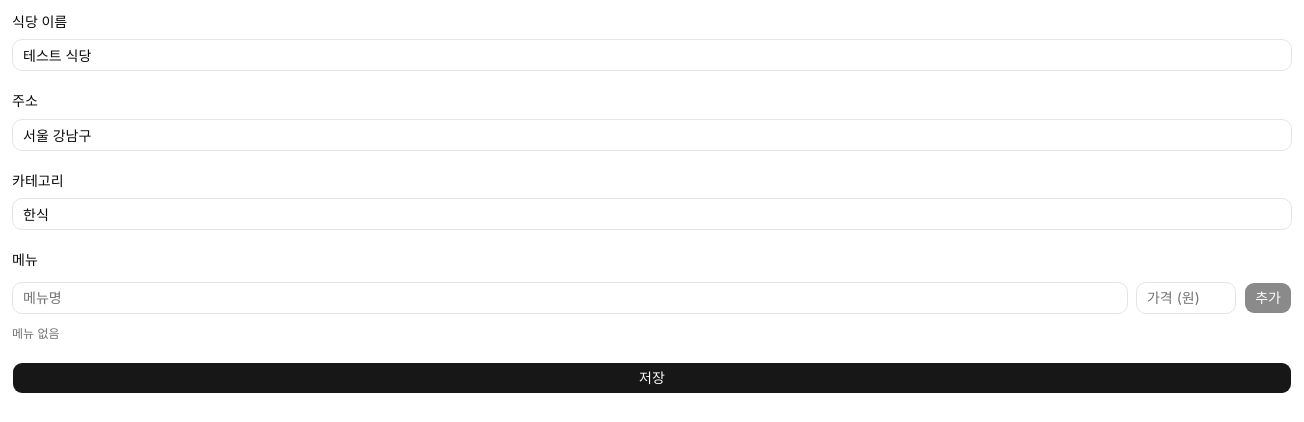
Scenario: RestaurantForm › 메뉴 추가 → 목록에 '된장찌개 8,500원' 표시
Type "된장찌개" into the field with placeholder "메뉴명" at {"x": 570, "y": 298}, box 12,282 -> 1128,314
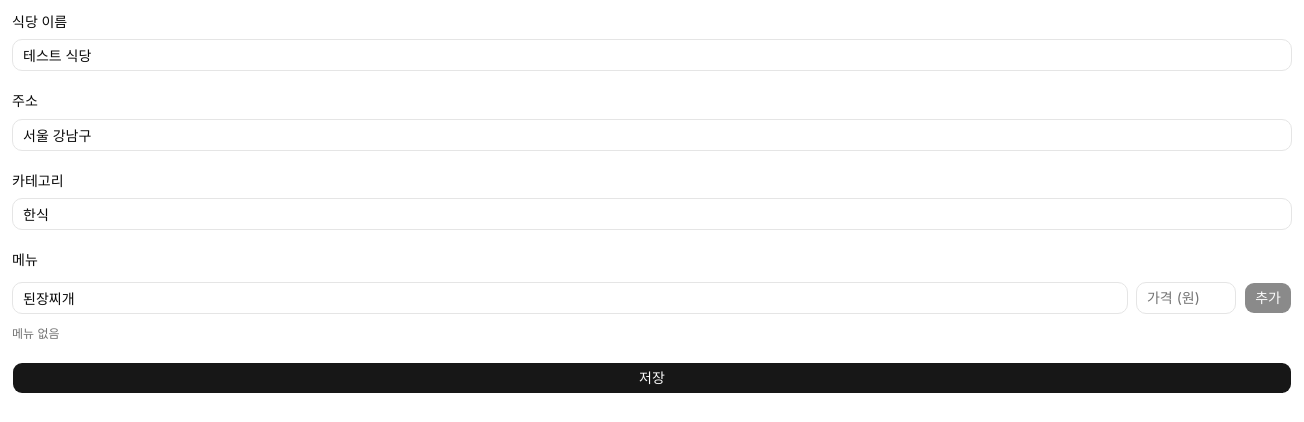
Type "8500" into the number field with placeholder "가격 (원)" at {"x": 1186, "y": 298}, box 1136,282 -> 1236,314
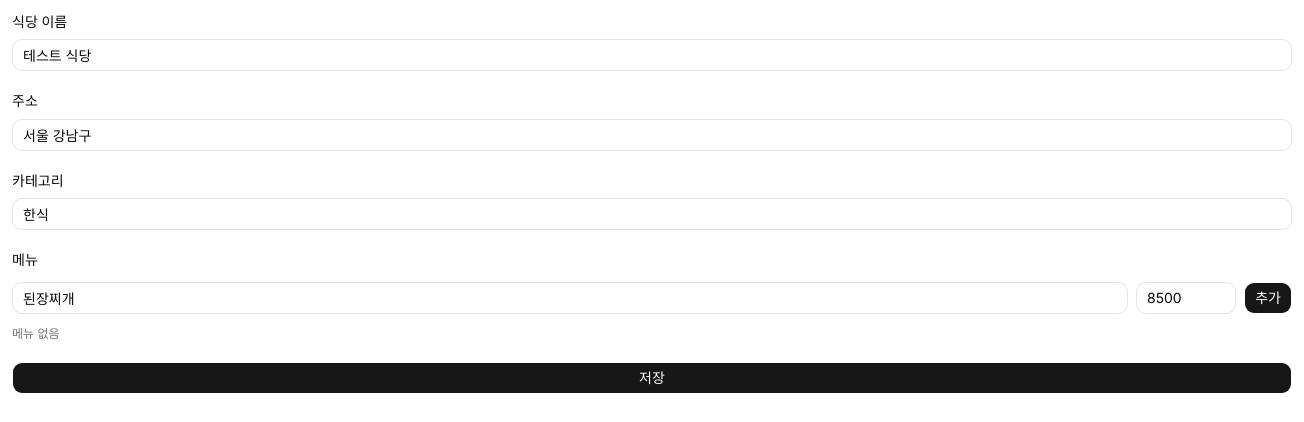
Click the button "추가" at {"x": 1268, "y": 298}, box 1244,282 -> 1292,314
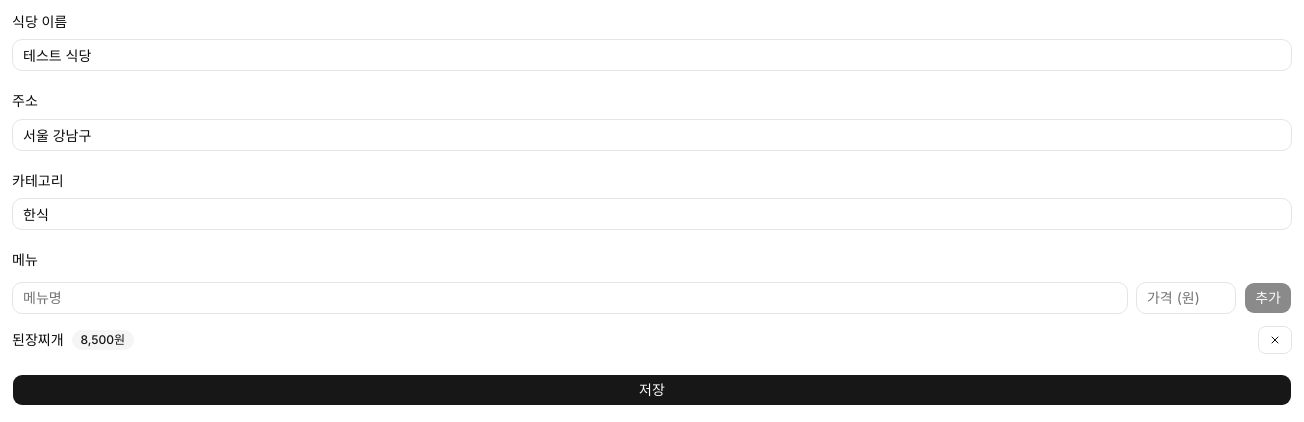
Expected: the text "된장찌개" is shown, 12,330 -> 64,350
Expected: the text "8,500원" is shown, 72,330 -> 134,350
